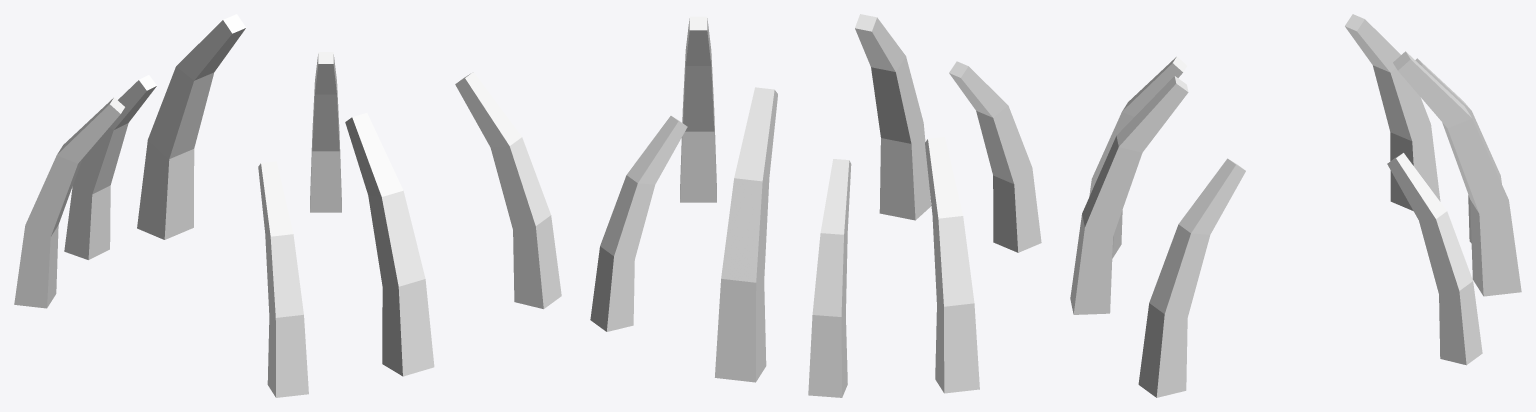
The model's file is Fish Bone 4.fbx.
The picture shows the model from 3 angles, left to right: view 1: azimuth 30°, elevation 25°; view 2: azimuth 150°, elevation 25°; view 3: azimuth 270°, elevation 25°; orthographic projection. The views are drawn at different scales.
Parts seen in each view (by area): view 1: Box003; view 2: Box003; view 3: Box003.
Boxes of the visible parts, x1,y1,x2,y2 form: Box003: [14, 14, 561, 397]; Box003: [590, 14, 1041, 397]; Box003: [1070, 14, 1521, 397].
Size of the model in its own units: 268 by 145 by 247.
Materials: 1 (1 with a texture image).
